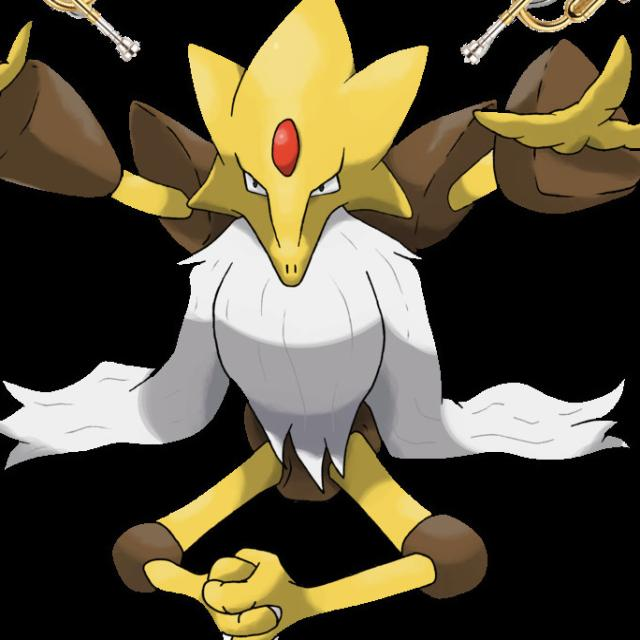Alakazam: (102, 30, 511, 616)
